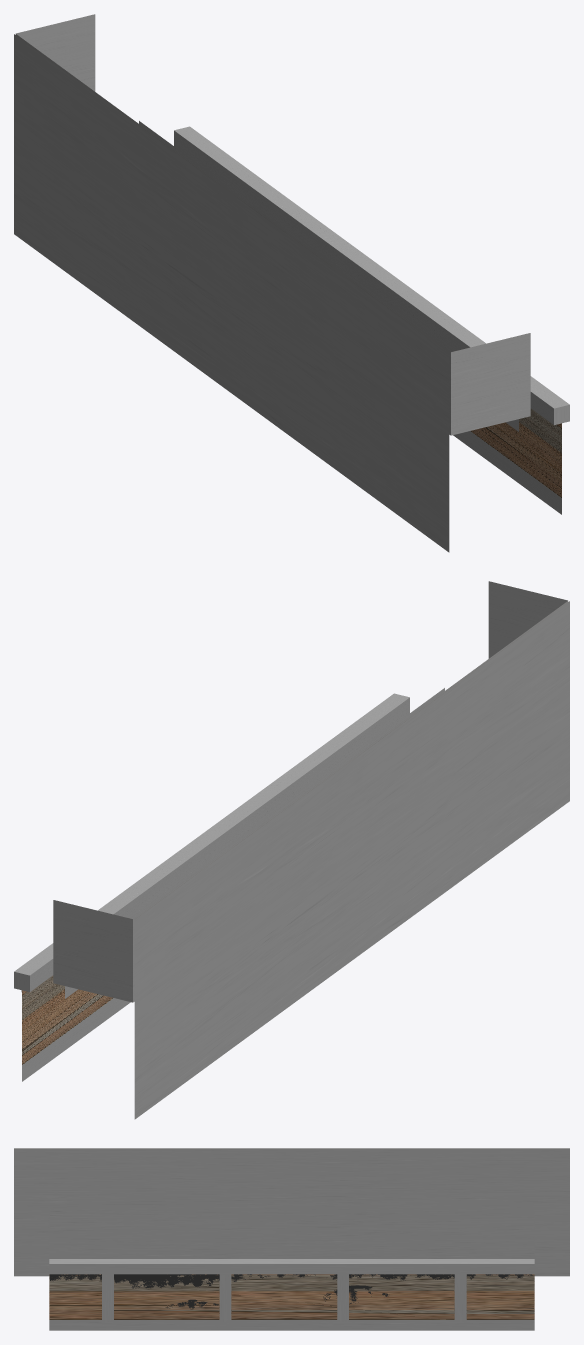
The model's file is Lapangan_ViewerPlatform.fbx.
3 views of the same model, one above another, from view 1: azimuth 30°, elevation 25°; view 2: azimuth 150°, elevation 25°; view 3: azimuth 270°, elevation 25° (orthographic). The views are drawn at different scales.
Parts seen in each view (by area): view 1: ViewerPlatform; view 2: ViewerPlatform; view 3: ViewerPlatform, ViewerPlatform-Det.
Boxes of the visible parts, box(x1,y1,x2,y2) form: ViewerPlatform: box(14, 14, 569, 552); ViewerPlatform: box(14, 581, 569, 1119); ViewerPlatform: box(14, 1148, 569, 1330); ViewerPlatform-Det: box(49, 1274, 532, 1309).
Size of the model in its own units: 9.3 by 13 by 47.3.
